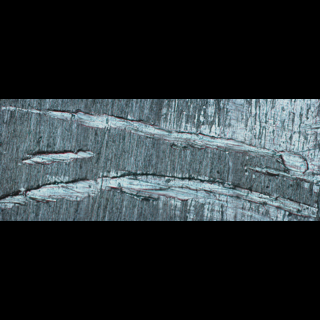d: (1, 100, 319, 191), (0, 170, 319, 220), (19, 145, 98, 168)
